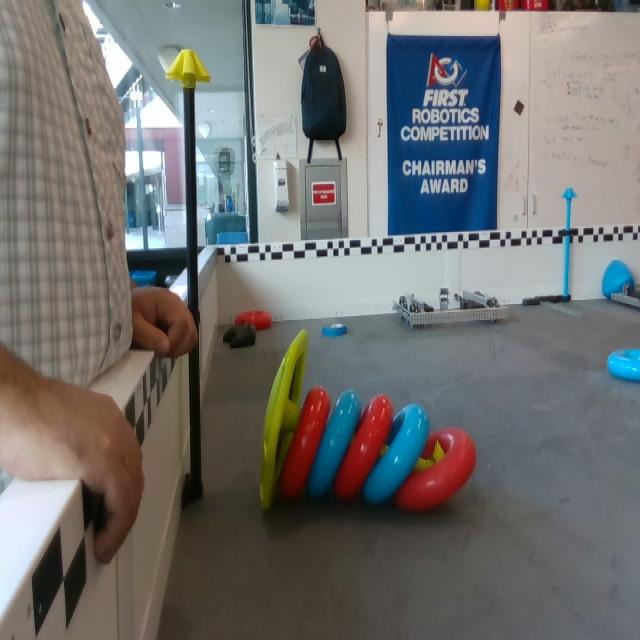Blue-Ring: (361, 404, 430, 506), (305, 389, 361, 502), (607, 348, 639, 382), (323, 321, 352, 339)
Mobile-Goal: (256, 331, 455, 512)
Red-Ring: (389, 427, 478, 516), (333, 394, 394, 504), (280, 385, 331, 497), (235, 310, 273, 330)
Yellow-Stake-Head: (166, 50, 212, 83)
zblue-Stake-Head: (561, 188, 577, 198)
